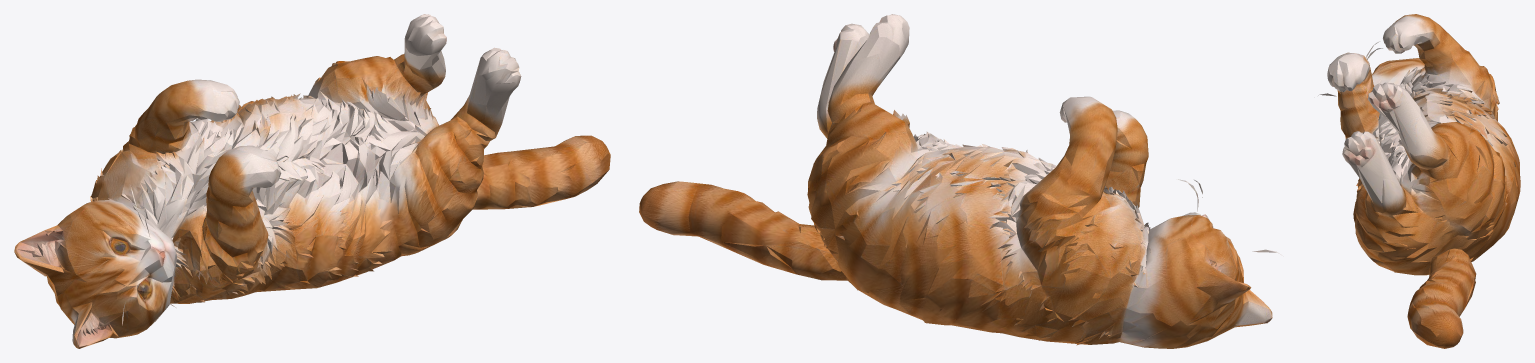
The model's file is cat_belly.glb.
The picture shows the model from 3 angles, left to right: view 1: azimuth 30°, elevation 25°; view 2: azimuth 150°, elevation 25°; view 3: azimuth 270°, elevation 25°; orthographic projection. The views are drawn at different scales.
Bounding box in the file's own units: 1.9 × 0.7227 × 0.7074.
Materials: 1 (1 with a texture image).
